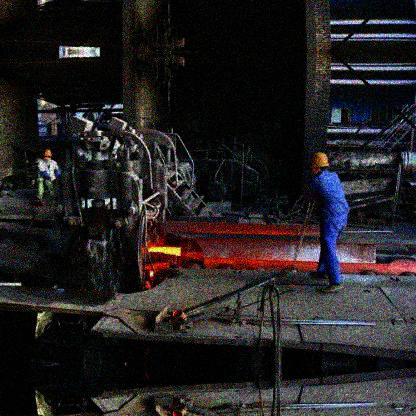helmet: (306, 151, 329, 176), (43, 149, 52, 162)
